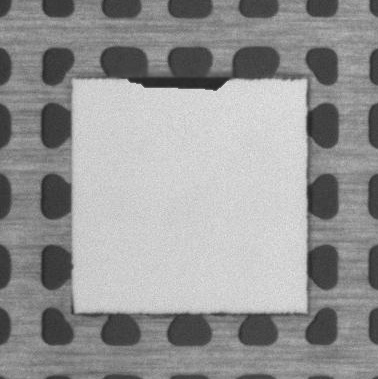DIE_BROKEN: (123, 73, 236, 91)
